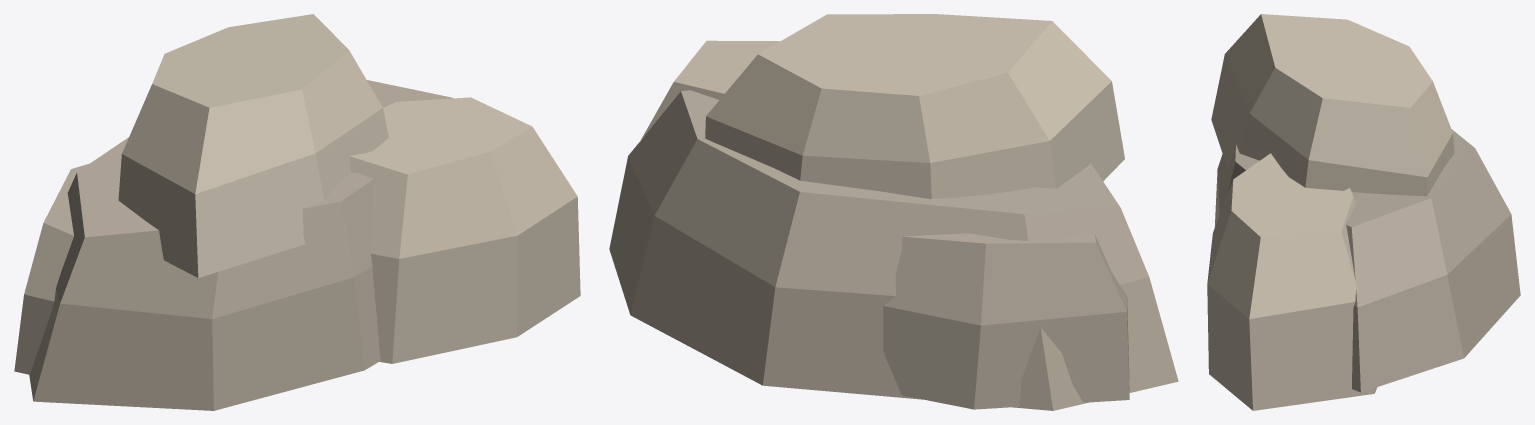
The model's file is cliff_outcrop.glb.
3 views of the same model, side by side, from view 1: azimuth 30°, elevation 25°; view 2: azimuth 150°, elevation 25°; view 3: azimuth 270°, elevation 25° (orthographic). The views are drawn at different scales.
Parts seen in each view (by area): view 1: cliff_outcrop; view 2: cliff_outcrop; view 3: cliff_outcrop.
Part boxes in pixels (x1=…): cliff_outcrop: x1=14, y1=14, x2=580, y2=410; cliff_outcrop: x1=609, y1=14, x2=1178, y2=410; cliff_outcrop: x1=1207, y1=14, x2=1520, y2=410.
Bounding box in the file's own units: 9.84 × 5.11 × 5.94.
